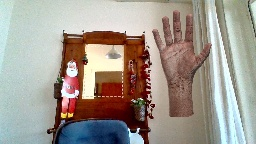Mano_aperta: (149, 8, 213, 84)
